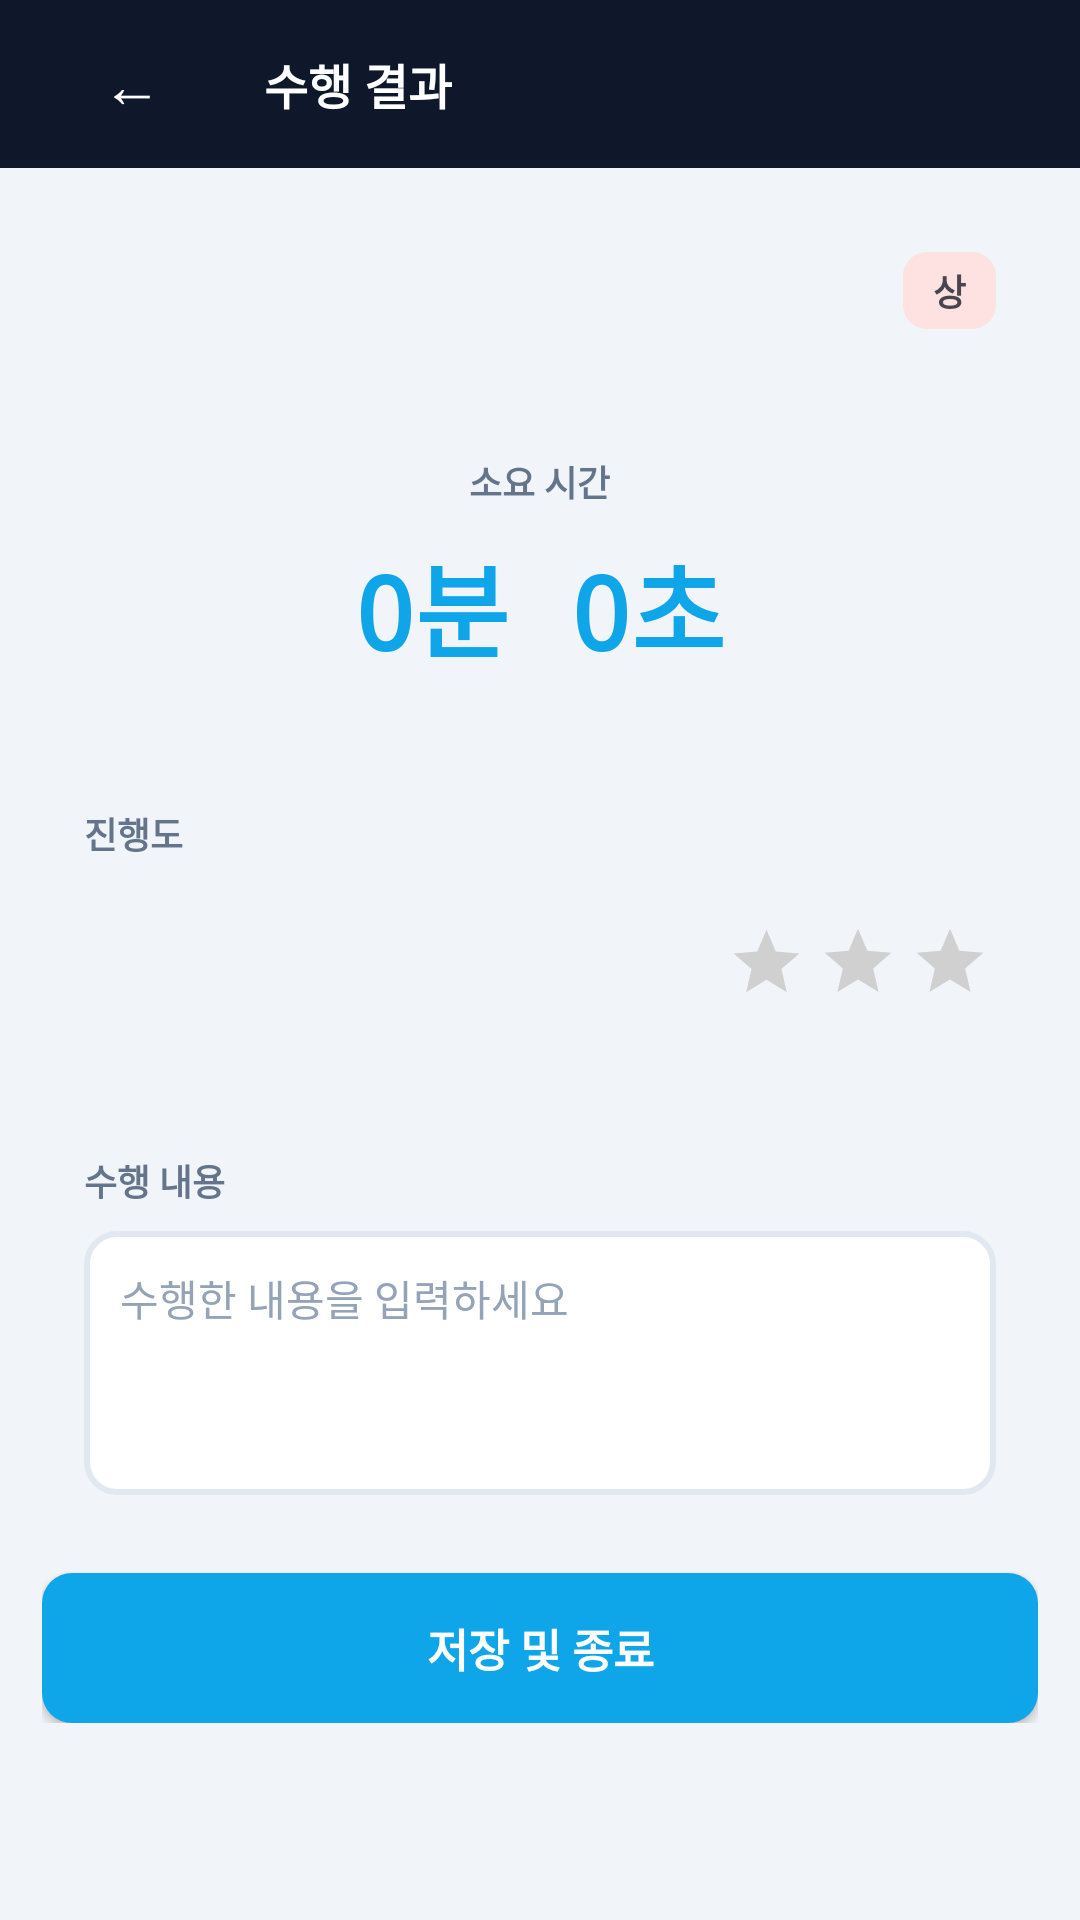

Icon click points for this 1080px×1920px phone screenshot, format (x=x, y=y):
star empty: (x=766, y=961), (x=858, y=960), (x=950, y=960)
